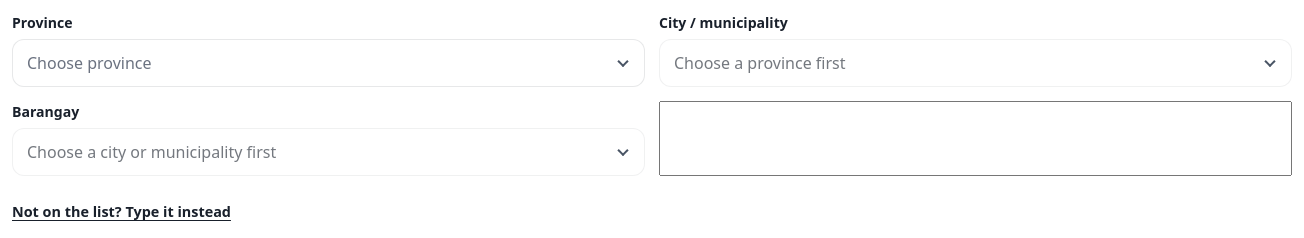
Test: PlaceFields with the lists › clears what was chosen below when a higher choice changes
The image size is (1304, 238).
Select "Cebu" in the dropdown labelled "Province": (328, 63) top-left (12, 39), bottom-right (645, 87)
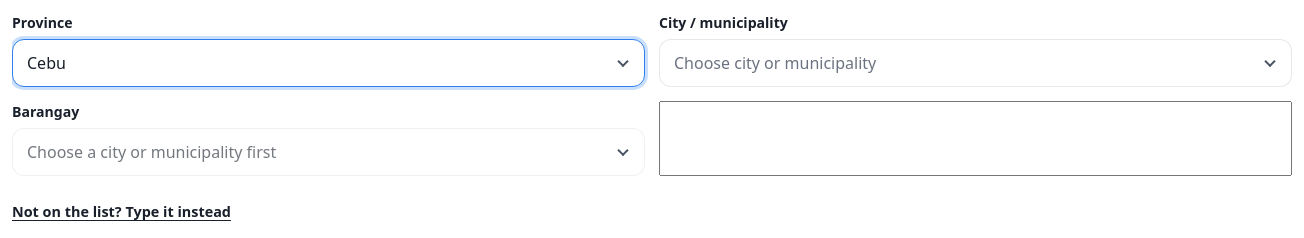
Select "Cebu City" in the dropdown labelled "City / municipality": (976, 63) top-left (659, 39), bottom-right (1292, 87)
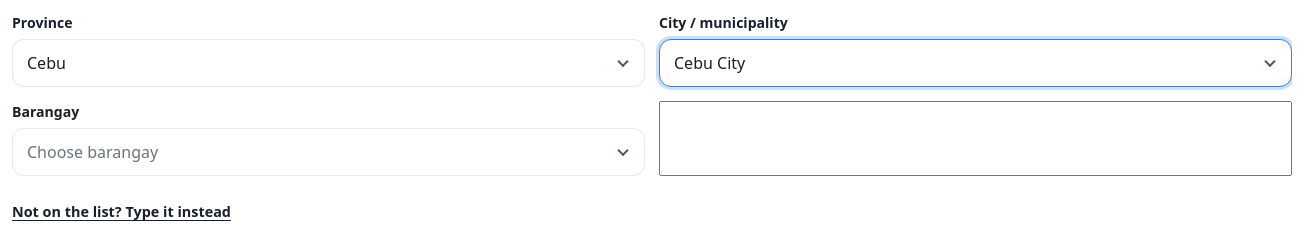
Select "Lahug" in the dropdown labelled "Barangay": (328, 152) top-left (12, 128), bottom-right (645, 176)
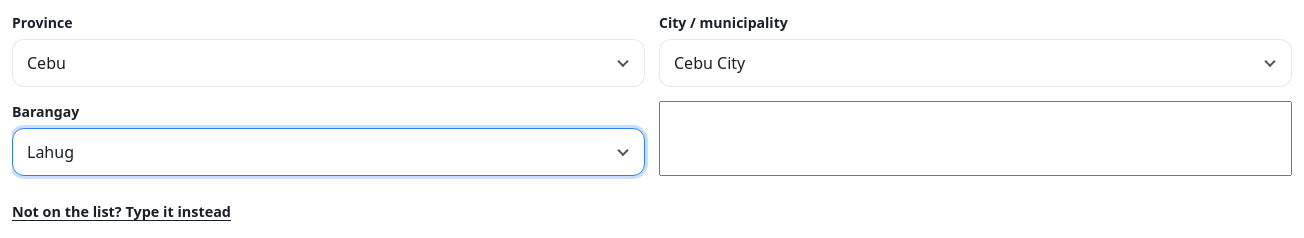
Select "Ilocos Norte" in the dropdown labelled "Province": (328, 63) top-left (12, 39), bottom-right (645, 87)
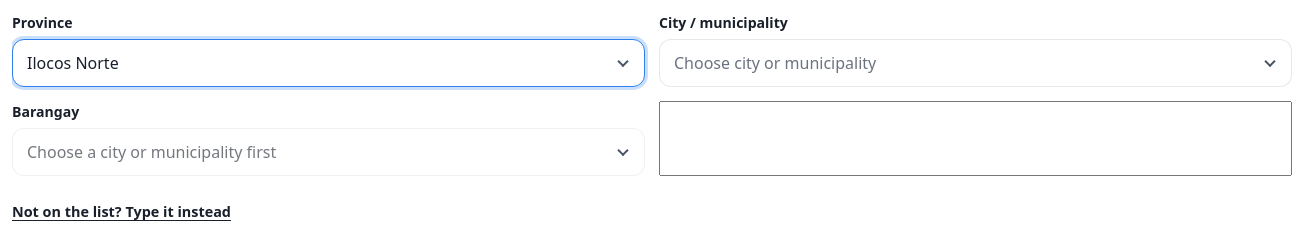
Check: the dropdown labelled "Barangay" is disabled, box top-left (12, 128), bottom-right (645, 176)
